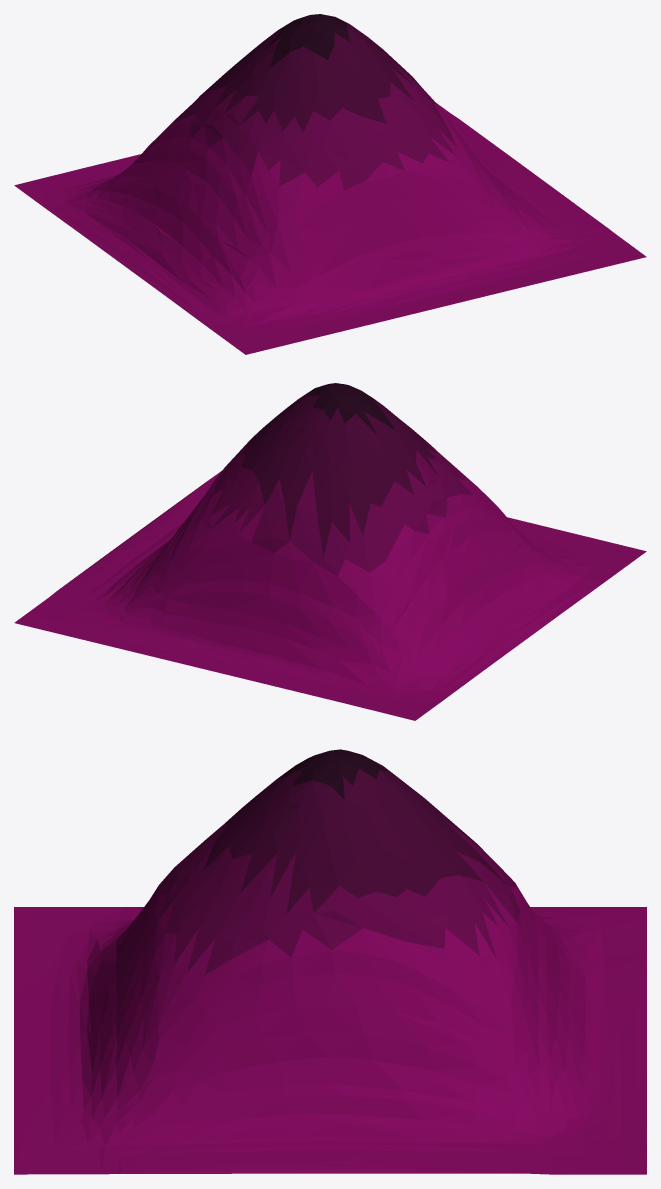
File: MountainSingle1.fbx
3 views of the same model, one above another, from view 1: azimuth 30°, elevation 25°; view 2: azimuth 150°, elevation 25°; view 3: azimuth 270°, elevation 25° (orthographic). The views are drawn at different scales.
Visible parts, largest first — view 1: MOUNTAIN1TRIIIIIIS.002; view 2: MOUNTAIN1TRIIIIIIS.002; view 3: MOUNTAIN1TRIIIIIIS.002.
Part boxes in pixels (x1,y1,x2,y2): MOUNTAIN1TRIIIIIIS.002: [14, 14, 646, 354]; MOUNTAIN1TRIIIIIIS.002: [14, 383, 646, 720]; MOUNTAIN1TRIIIIIIS.002: [14, 749, 646, 1174].
Size of the model in its own units: 20001 by 9741 by 20001.
